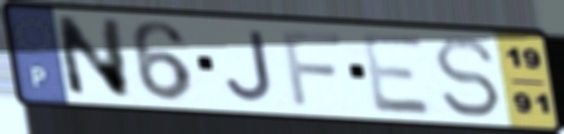6: (128, 18, 198, 105)
E: (357, 30, 437, 117)
F: (277, 28, 347, 109)
J: (222, 28, 278, 104)
N: (51, 13, 134, 101)
S: (429, 35, 505, 121)
